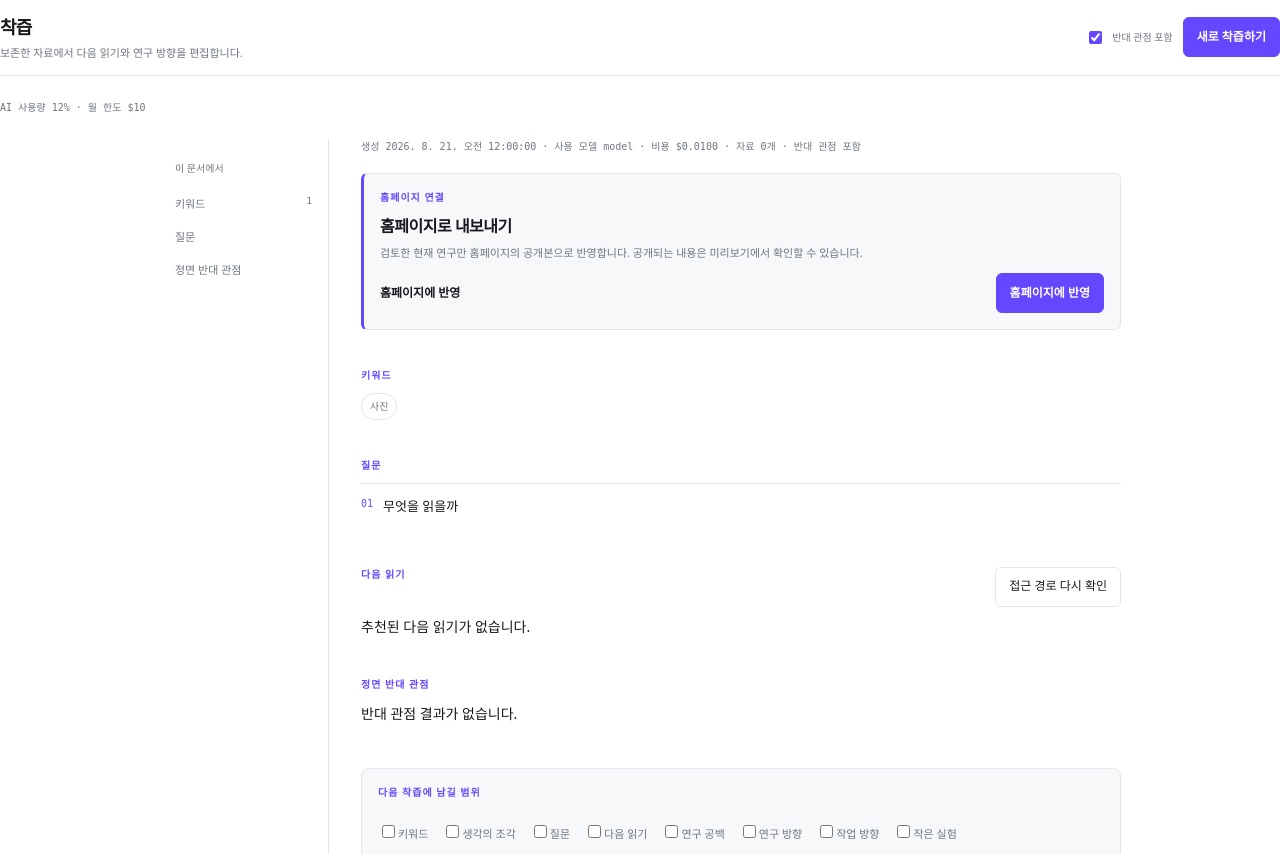
Test: DistillView › previews and publishes a completed Distill to the homepage
Click the button with aria-label "홈페이지로 내보내기" at (1050, 293), box [996,273,1104,313]
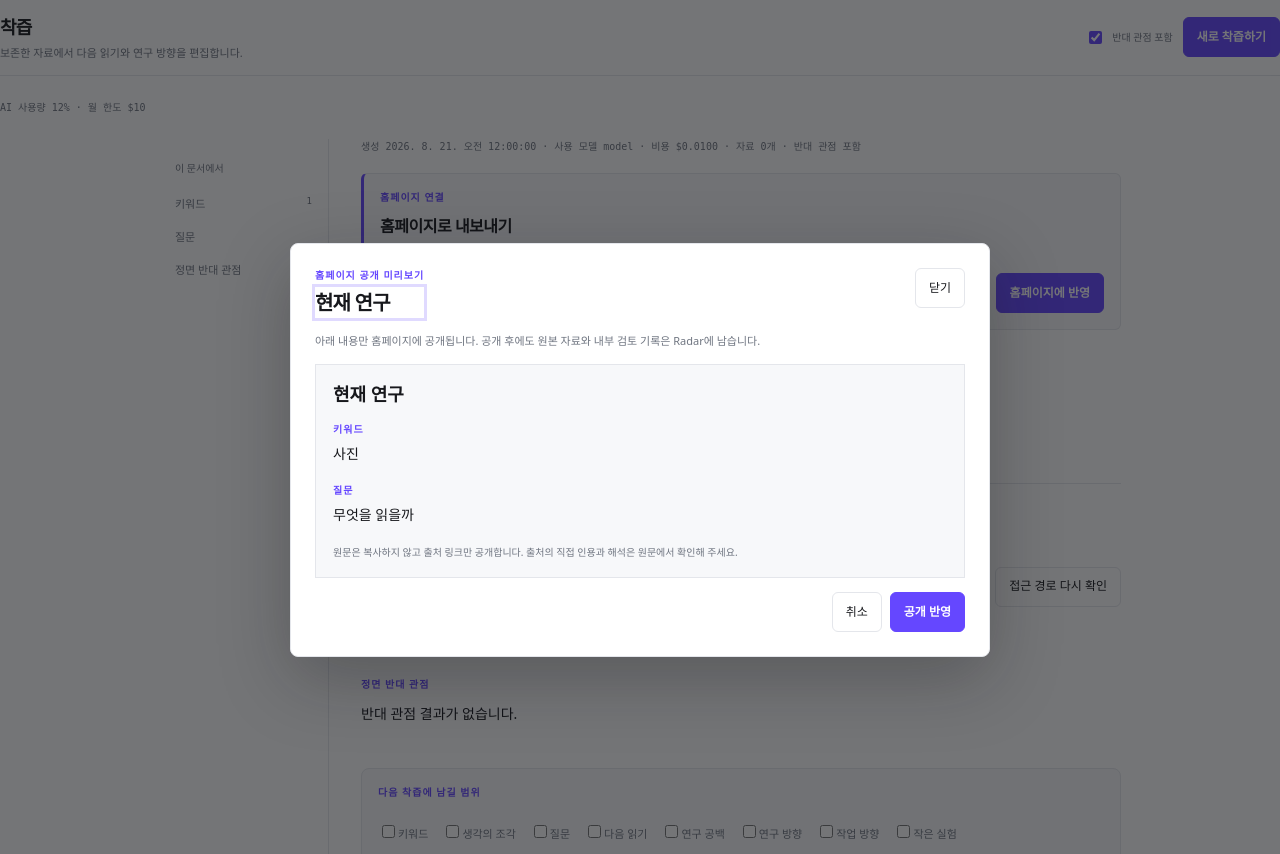
Expected: the dialog "현재 연구" is shown, [290,243,990,657]
Click the button "공개 반영" at (927, 612), box [890,592,965,632]
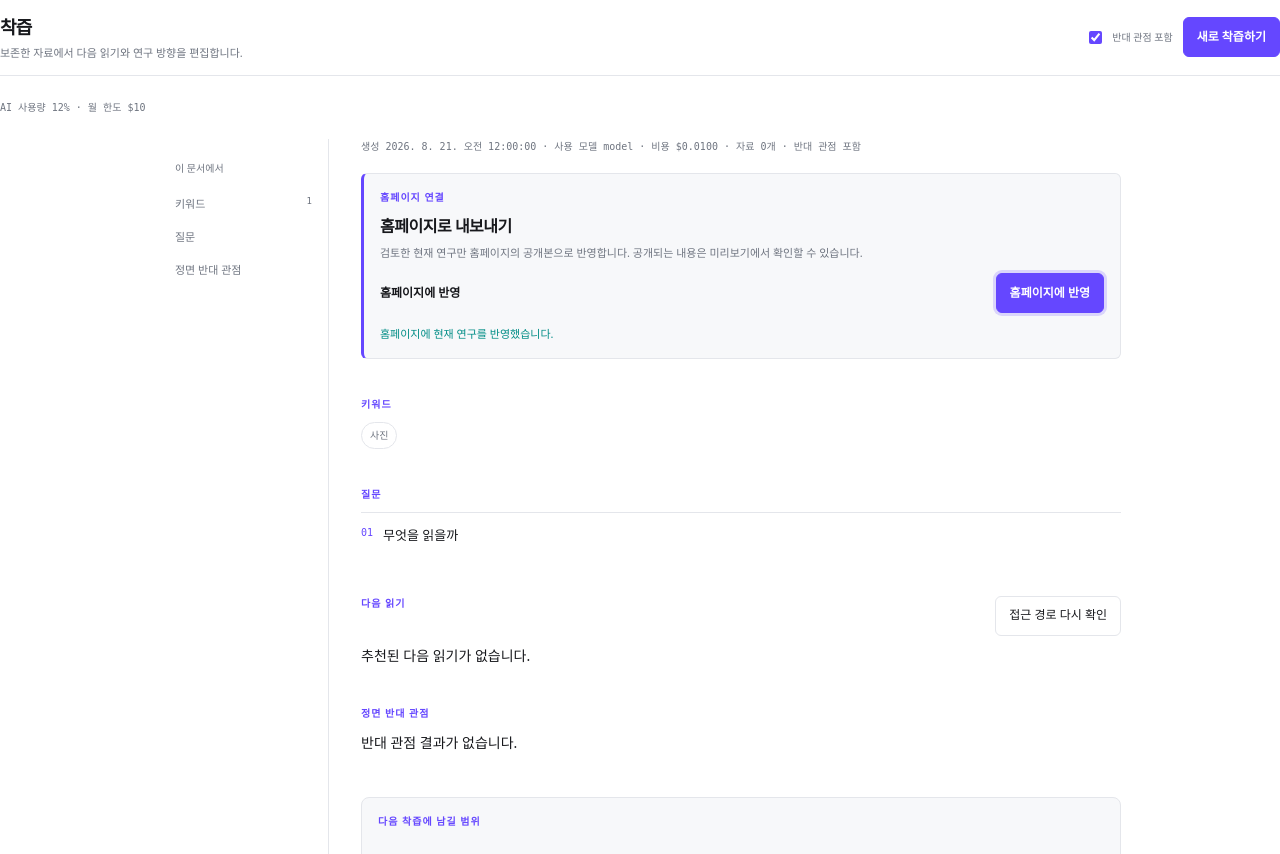
Expected: the text "홈페이지에 현재 연구를 반영했습니다." is shown, [380,326,554,341]
